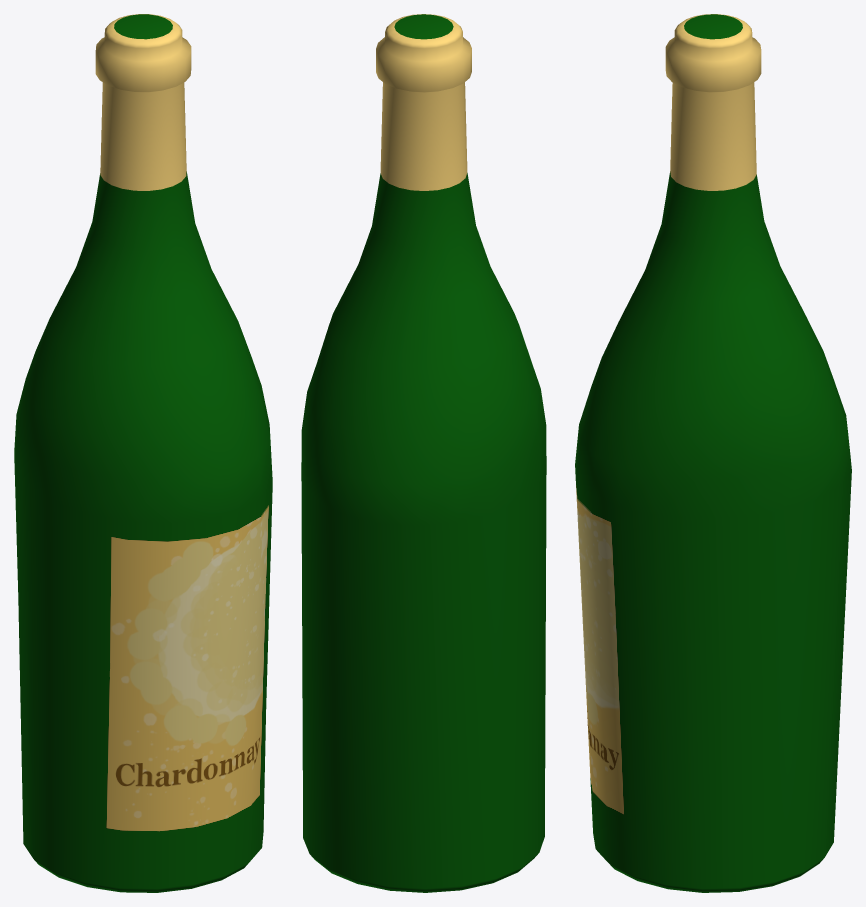
Rendered from Bottle_Chardonnay.fbx.
The picture shows the model from 3 angles, left to right: view 1: azimuth 30°, elevation 25°; view 2: azimuth 150°, elevation 25°; view 3: azimuth 270°, elevation 25°; orthographic projection.
Parts seen in each view (by area): view 1: pCylinder17; view 2: pCylinder17; view 3: pCylinder17.
Boxes of the visible parts, x1=… form: pCylinder17: x1=14, y1=14, x2=272, y2=892; pCylinder17: x1=301, y1=14, x2=546, y2=892; pCylinder17: x1=575, y1=14, x2=851, y2=892.
Bounding box in the file's own units: 1.71 × 6.38 × 1.95.
